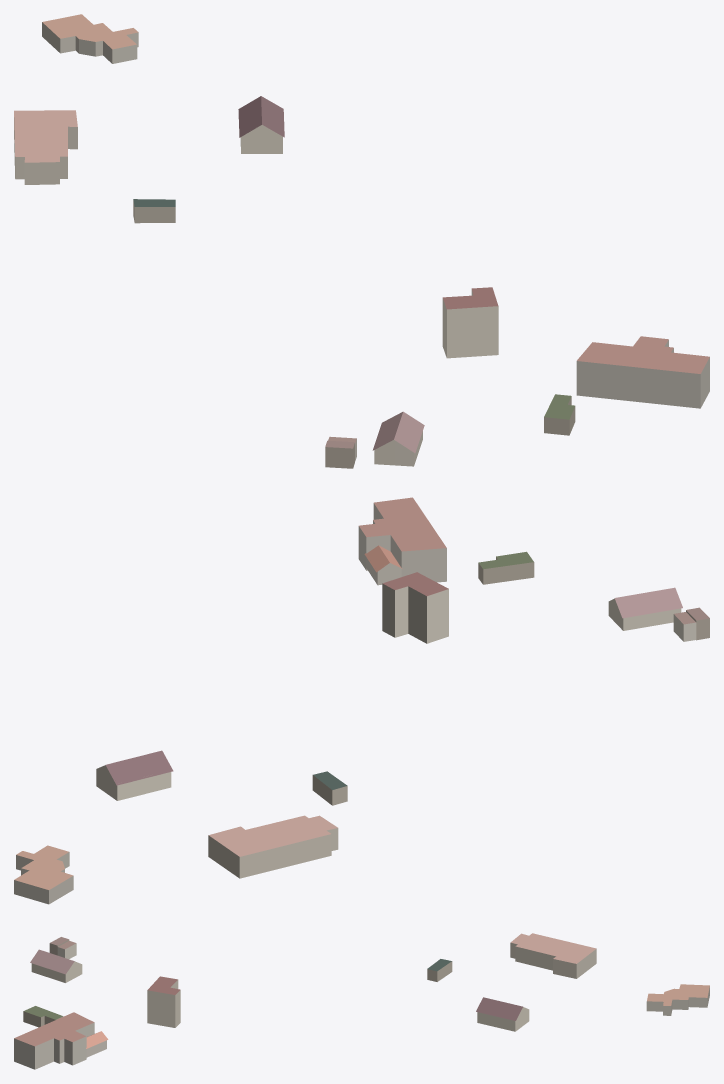
The picture shows the model from 3 angles, top to bottom: view 1: azimuth 30°, elevation 25°; view 2: azimuth 150°, elevation 25°; view 3: azimuth 270°, elevation 25°; orthographic projection. The views are drawn at different scales.
Visible parts, largest first — view 1: tuile; view 2: tuile; view 3: tuile.
Boxes of the visible parts, <box> form: tuile: <box>14,14,709,468</box>; tuile: <box>14,497,709,904</box>; tuile: <box>14,933,709,1069</box>.
Bounding box in the file's own units: 90.89 × 13.61 × 222.
